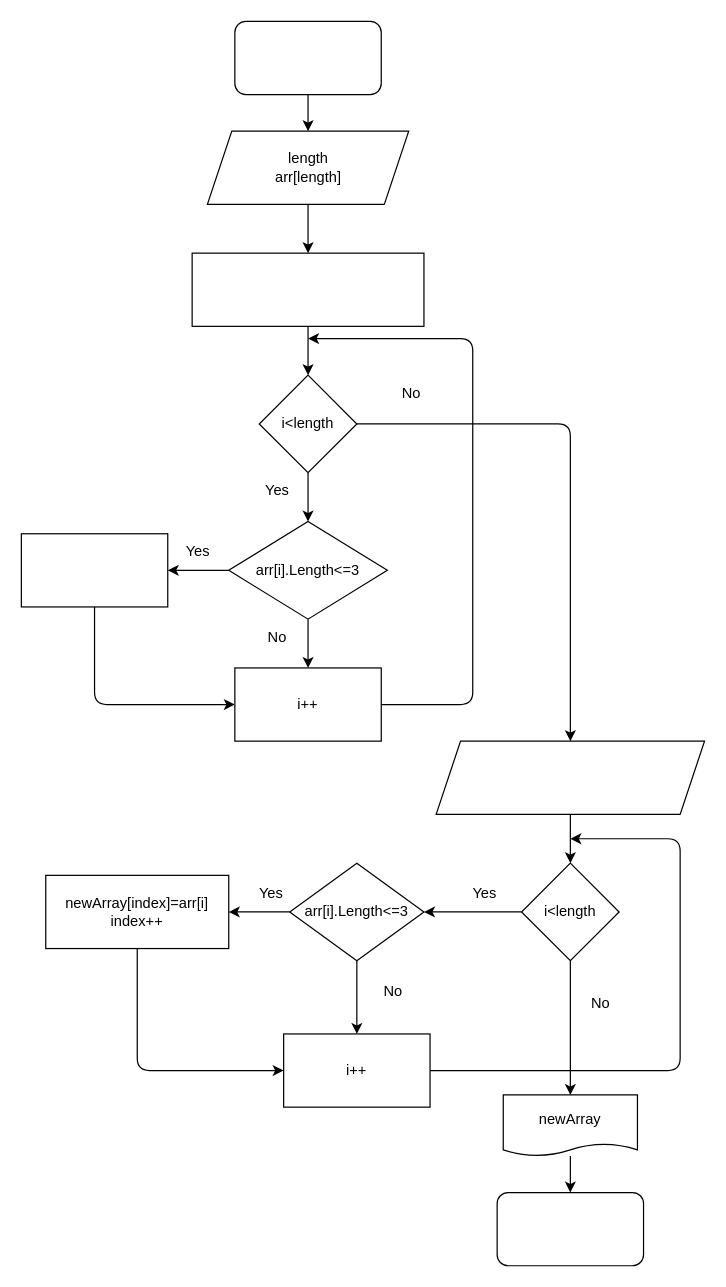
Some shapes in this 726 by 1287 pixel diagram are drawn without their labels. Here are the shapes that lost their labels. From the top down, the box of each, then its label:
(234, 20, 381, 95): Start
(191, 252, 424, 326): lengthNewArray =0 count = 0 index =0
(20, 533, 168, 607): lengthNewArray++
(435, 740, 705, 814): newArray[lengthNewArray]
(496, 1191, 644, 1266): Finish
